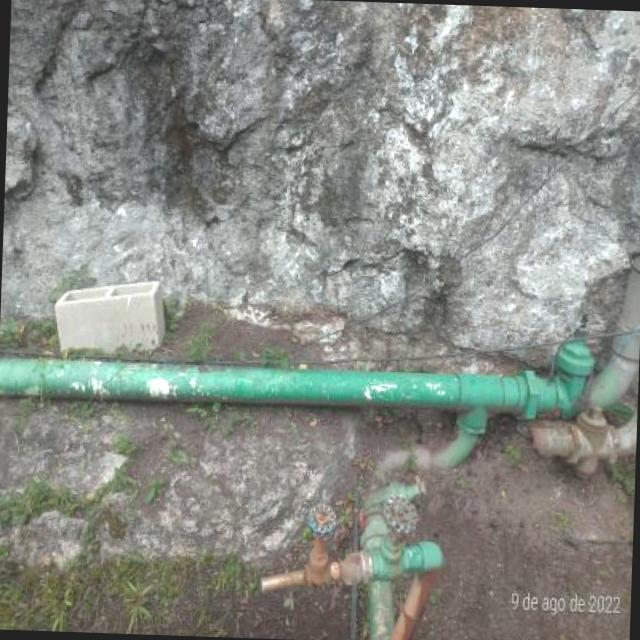gas: (0, 354, 564, 417), (296, 534, 442, 580), (524, 418, 637, 468), (361, 501, 394, 640)
